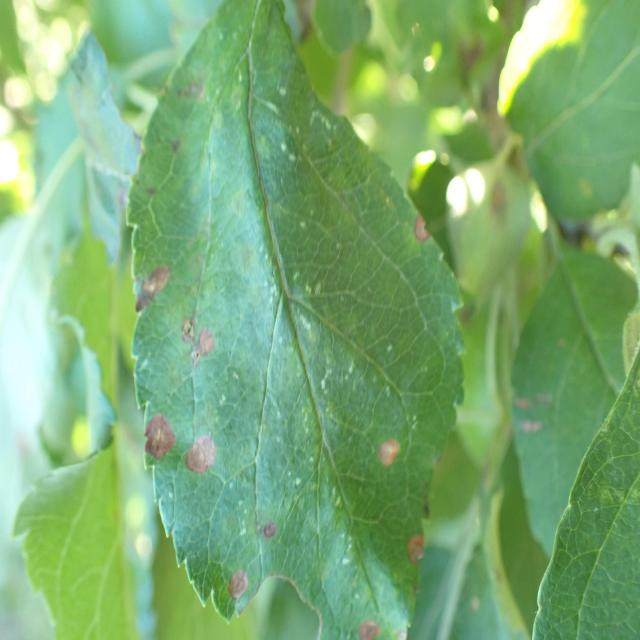frog-eye-leaf-spot: (127, 2, 468, 640)
